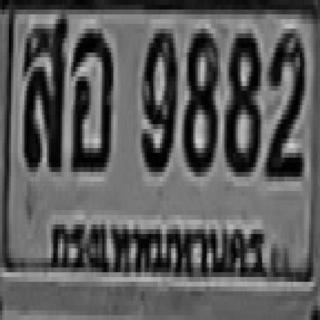A40: (22, 9, 67, 167)
A43: (69, 29, 111, 167)
N02: (264, 29, 302, 172)
N08: (222, 29, 258, 172), (182, 26, 216, 170)
N09: (140, 24, 176, 167)
P04: (47, 208, 267, 285)
